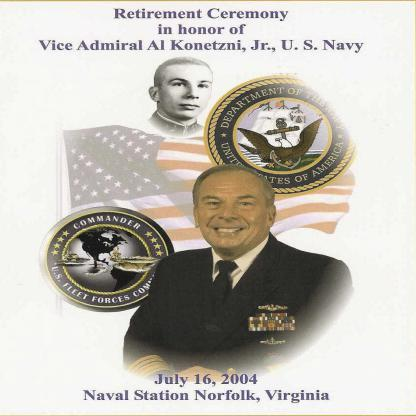face: (199, 173, 268, 248), (163, 64, 215, 117)
